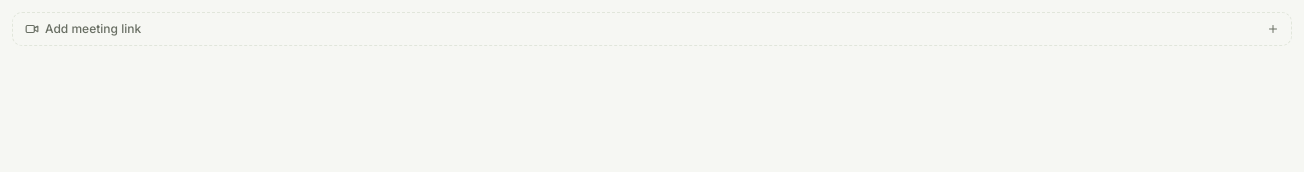
Scenario: PAC-122 SF-056: a failed provider list in the meeting-link menu › shows the read's error in the menu instead of an empty provider list
Click the button "Add meeting link" at coordinates (93, 28), box [12,12,1292,46]
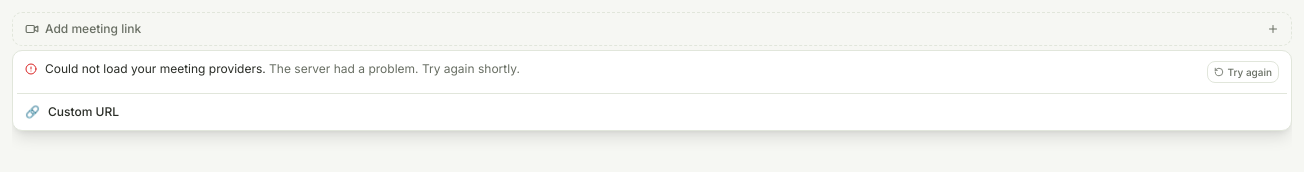
expect the message with test id "conference-providers-error" shows "Could not load your meeting providers": met, box [45,61,266,76]
expect the text with test id "api-error" reads "The server had a problem. Try again shortly.": met, box [269,61,520,76]
